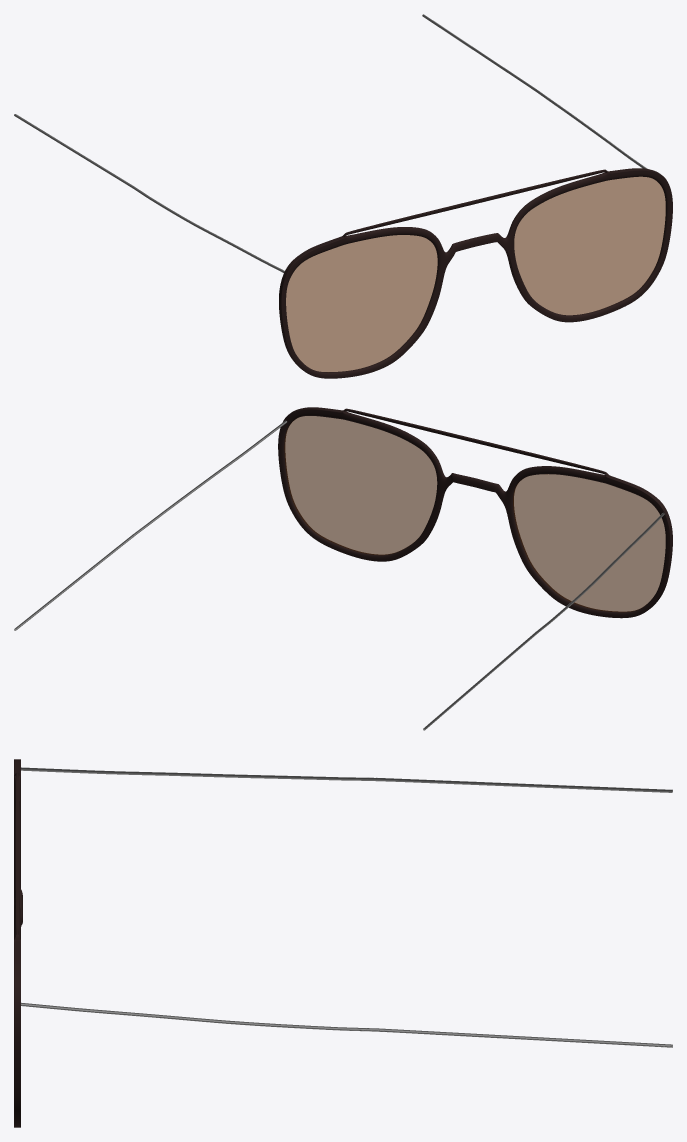
The model's file is glasses-16.glb.
3 renders of one model, top to bottom at view 1: azimuth 30°, elevation 25°; view 2: azimuth 150°, elevation 25°; view 3: azimuth 270°, elevation 25°, orthographic. The views are drawn at different scales.
Visible parts, largest first — view 1: Plane.001, Plane, bow_right.002, bow_right.003; view 2: Plane.001, Plane, bow_right.003, bow_right.002; view 3: Plane, bow_right.003, bow_right.002.
Part boxes in pixels (x1,y1,x2,y2): Plane.001: [286, 176, 665, 372]; Plane: [279, 168, 672, 378]; bow_right.002: [14, 114, 284, 272]; bow_right.003: [422, 14, 647, 168]; Plane.001: [284, 416, 665, 612]; Plane: [278, 407, 672, 618]; bow_right.003: [14, 420, 286, 630]; bow_right.002: [423, 512, 664, 730]; Plane: [14, 759, 22, 1127]; bow_right.003: [21, 1002, 672, 1047]; bow_right.002: [21, 767, 672, 792].
Bounding box in the file's own units: 16.18 × 5.49 × 17.59.
